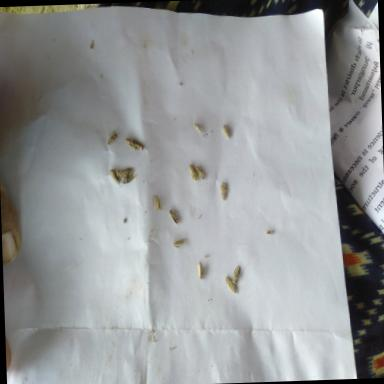pbw: (120, 170, 136, 186), (229, 266, 242, 284), (224, 278, 238, 294), (108, 169, 120, 186), (188, 164, 198, 182), (219, 181, 227, 203), (169, 208, 179, 225), (195, 164, 207, 178), (153, 195, 162, 211), (125, 138, 137, 150), (220, 124, 230, 138), (197, 262, 204, 282), (133, 140, 144, 152), (118, 168, 131, 178), (172, 238, 184, 248), (106, 134, 118, 144)
